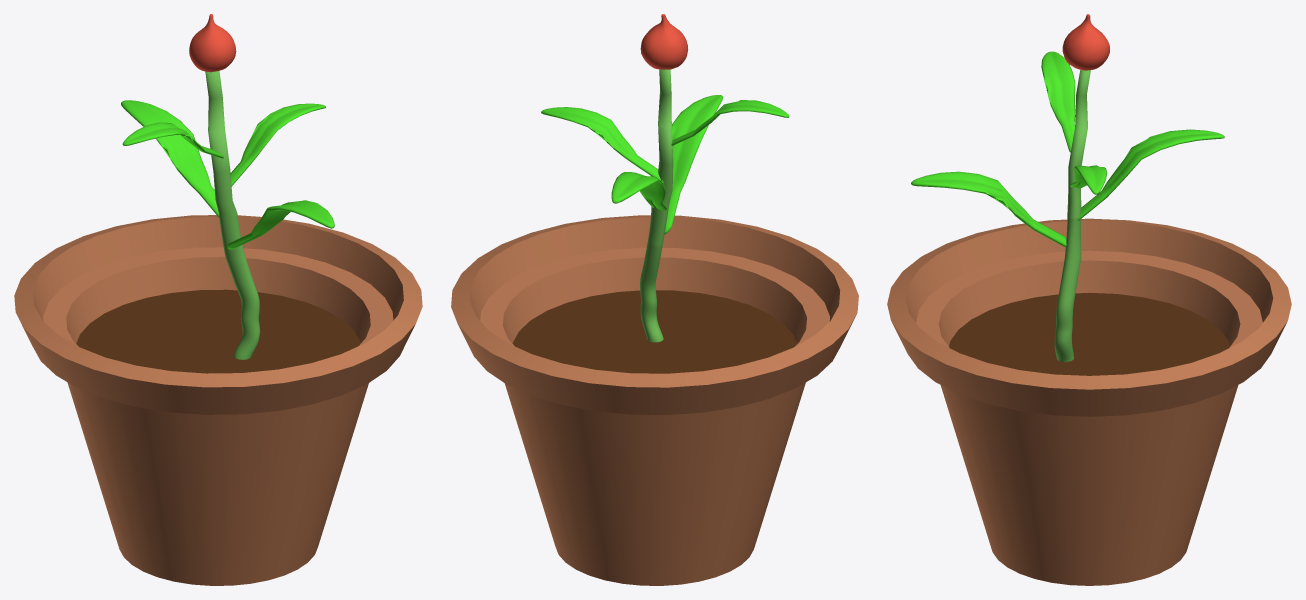
File: fruit.fbx
3 renders of one model, left to right at view 1: azimuth 30°, elevation 25°; view 2: azimuth 150°, elevation 25°; view 3: azimuth 270°, elevation 25°, orthographic.
Visible parts, largest first — view 1: Plant Pot, Plane, Cylinder.001, node_id85, Plane.001; view 2: Plant Pot, Plane, Cylinder.001, Plane.001, node_id85; view 3: Plant Pot, Plane, Cylinder.001, Plane.001, node_id85.
Part boxes in pixels (<box>): Plant Pot: <box>14,215,422,585</box>; Plane: <box>121,100,325,217</box>; Cylinder.001: <box>205,71,260,359</box>; node_id85: <box>189,14,236,72</box>; Plane.001: <box>227,200,334,249</box>; Plant Pot: <box>451,215,858,585</box>; Plane: <box>541,100,789,210</box>; Cylinder.001: <box>640,69,673,342</box>; Plane.001: <box>664,95,723,233</box>; node_id85: <box>640,14,688,69</box>; Plant Pot: <box>887,218,1291,585</box>; Plane: <box>1041,51,1224,220</box>; Cylinder.001: <box>1054,69,1090,361</box>; Plane.001: <box>911,171,1066,247</box>; node_id85: <box>1062,14,1109,70</box>.
Size of the model in its own units: 535 by 773 by 535.
